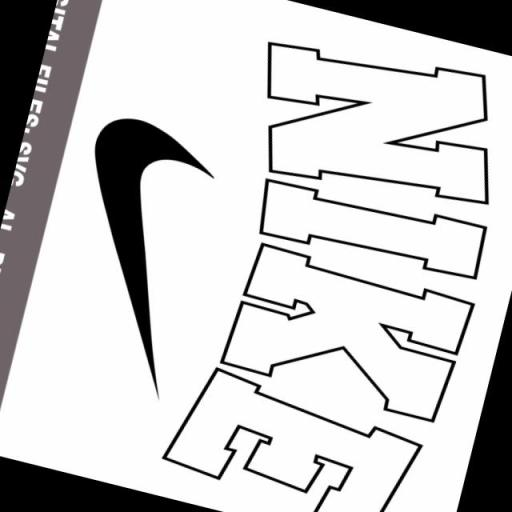Nike: (153, 38, 506, 512), (39, 110, 222, 398)
